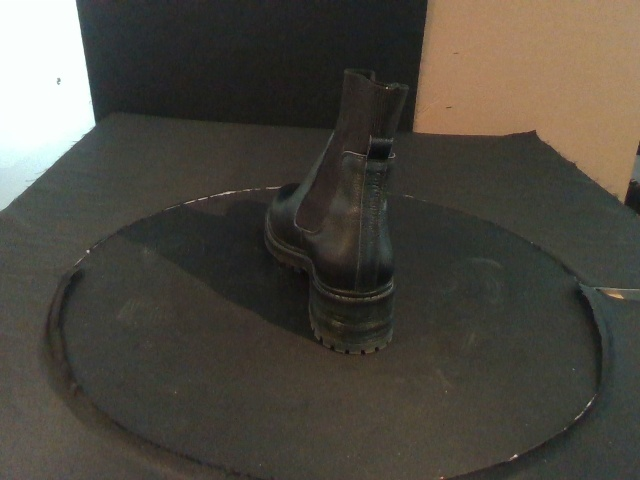shoe: (263, 66, 408, 355)
